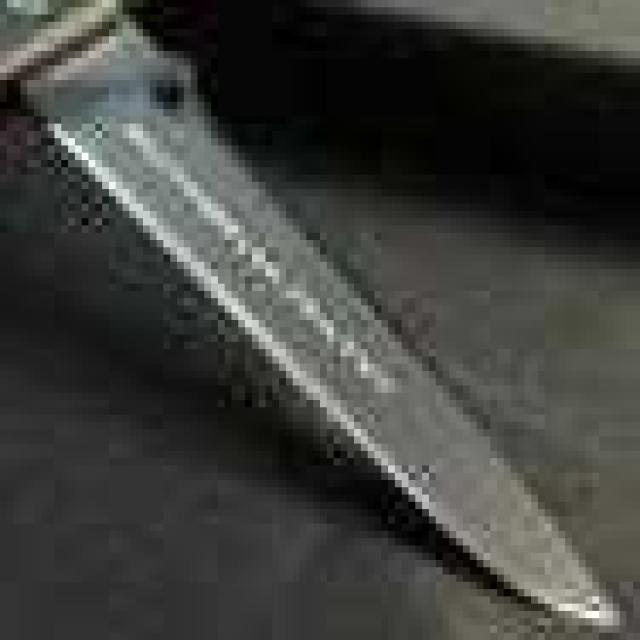Knife: (21, 0, 640, 640)
